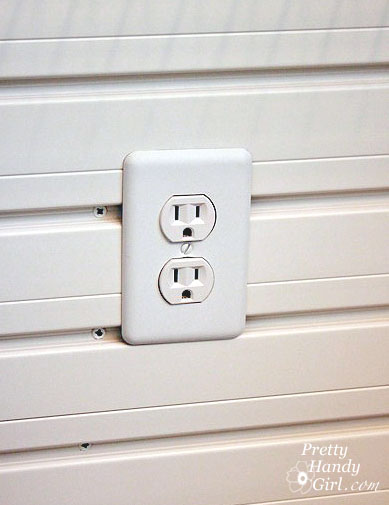outlet: (170, 201, 205, 239), (168, 263, 203, 301)
